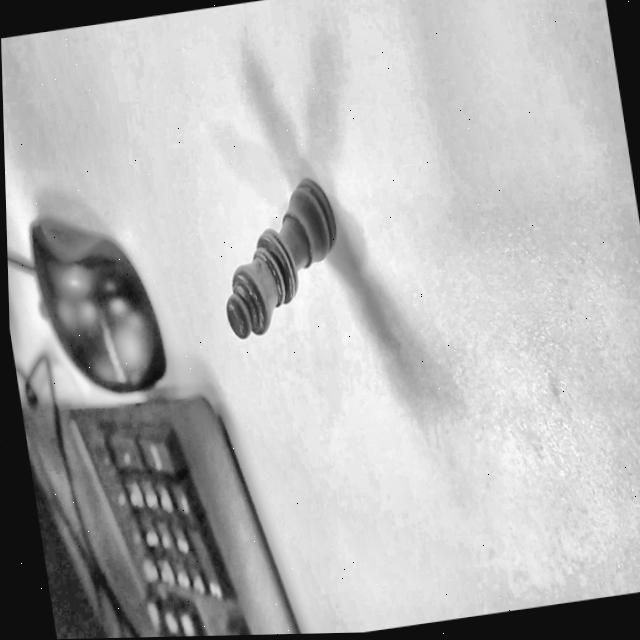black-queen: (197, 157, 360, 354)
